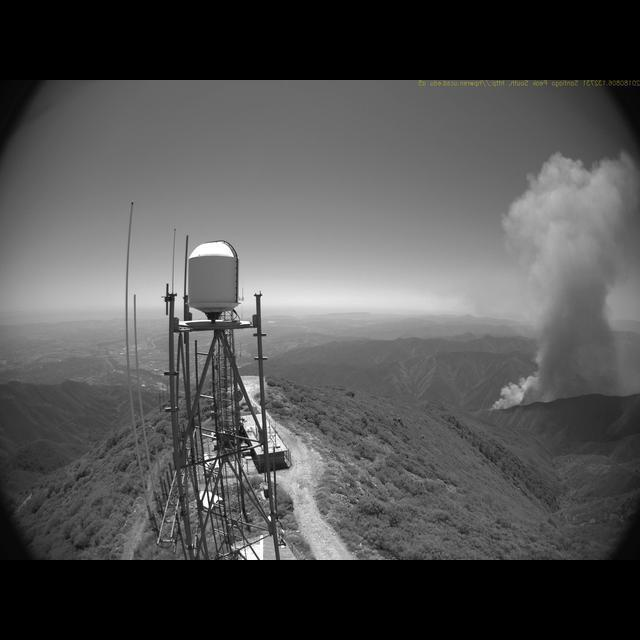Smoke: (488, 145, 639, 412)
